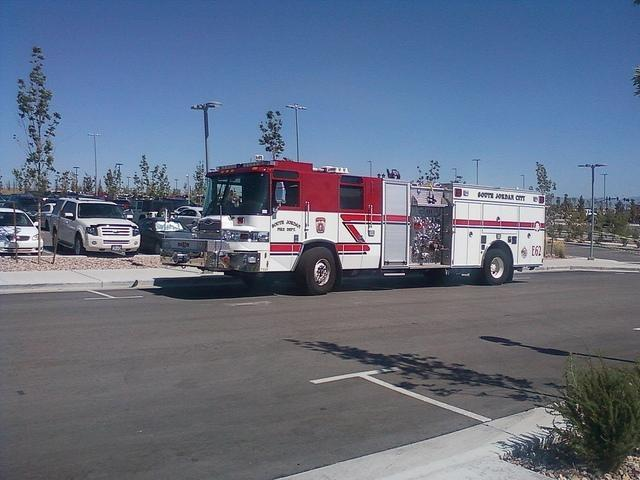car: (50, 196, 141, 254), (134, 217, 198, 254), (0, 208, 44, 254), (174, 209, 202, 224), (172, 206, 198, 219)
truck: (158, 158, 548, 295)
